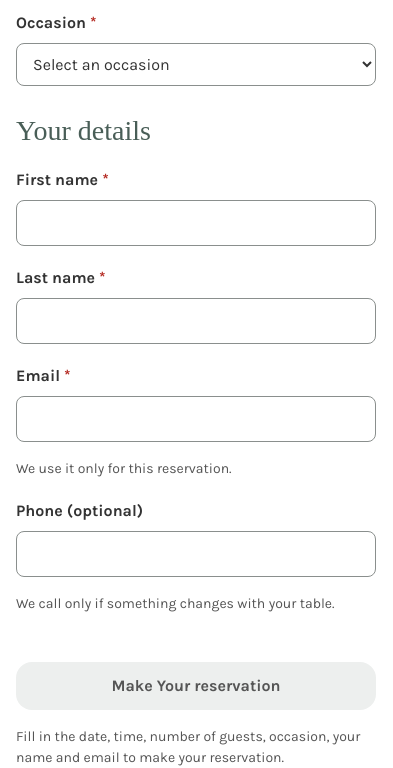
Test: Customer details › Phone (optional) = "123" shows a warning
The width and height of the screenshot is (393, 768).
(page scrolled)
In the field labelled "Phone (optional)": (196, 554) [16, 531, 376, 577], type "123"
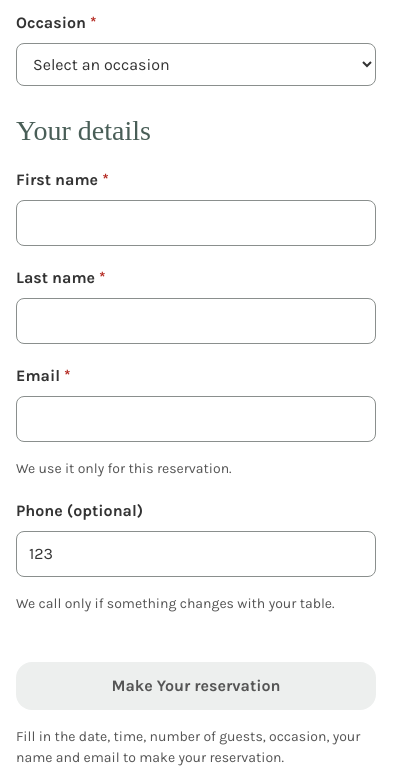
Leave the field labelled "Phone (optional)", box [16, 531, 376, 577]
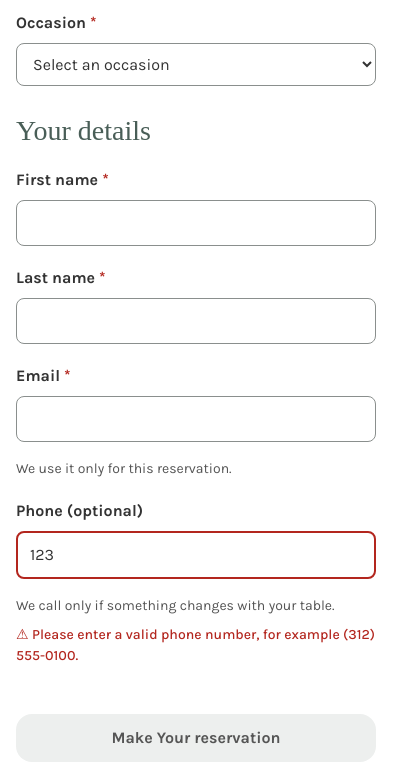
Result: the text "Please enter a valid phone number, for example (312) 555-0100." is shown at [16, 624, 376, 666]
